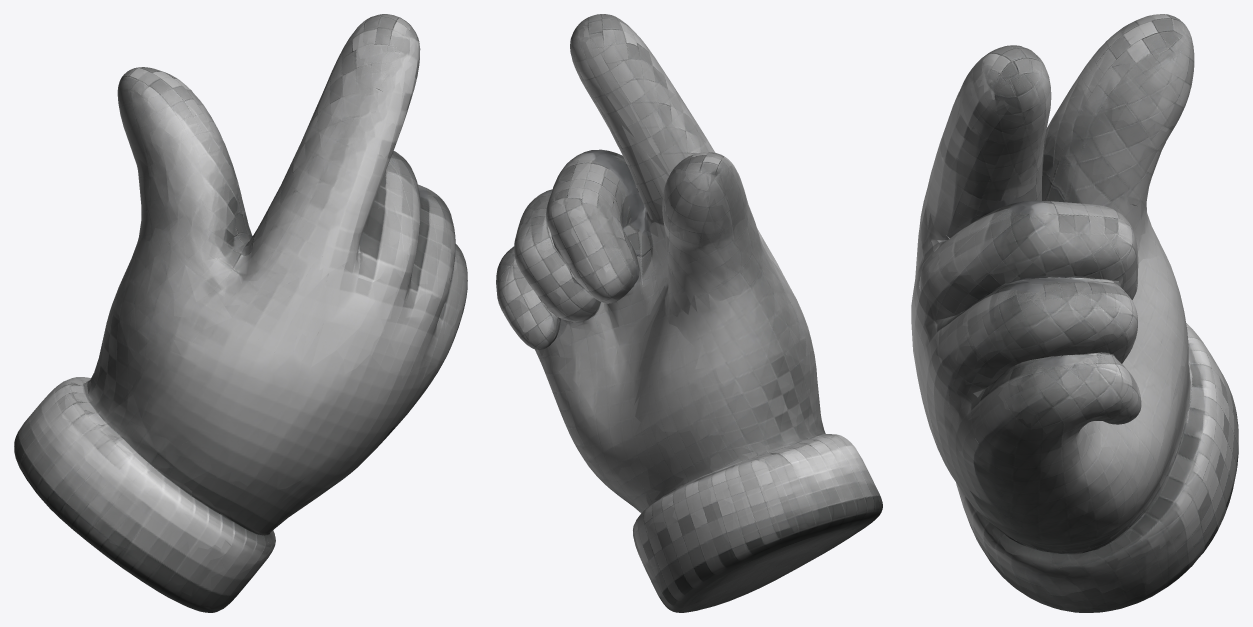
File: hand-cursor-meshy.glb
The picture shows the model from 3 angles, left to right: view 1: azimuth 30°, elevation 25°; view 2: azimuth 150°, elevation 25°; view 3: azimuth 270°, elevation 25°; orthographic projection. The views are drawn at different scales.
Parts seen in each view (by area): view 1: mesh_node; view 2: mesh_node; view 3: mesh_node.
Boxes of the visible parts, x1,y1,x2,y2 form: mesh_node: [14, 14, 467, 612]; mesh_node: [496, 14, 882, 612]; mesh_node: [911, 14, 1238, 612].
Size of the model in its own units: 1.42 by 1.9 by 0.8811.
1 material, 1 textured.
